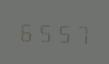five: (36, 19, 53, 43), (54, 20, 71, 44)
seven: (72, 20, 89, 45)
six: (18, 18, 35, 43)
